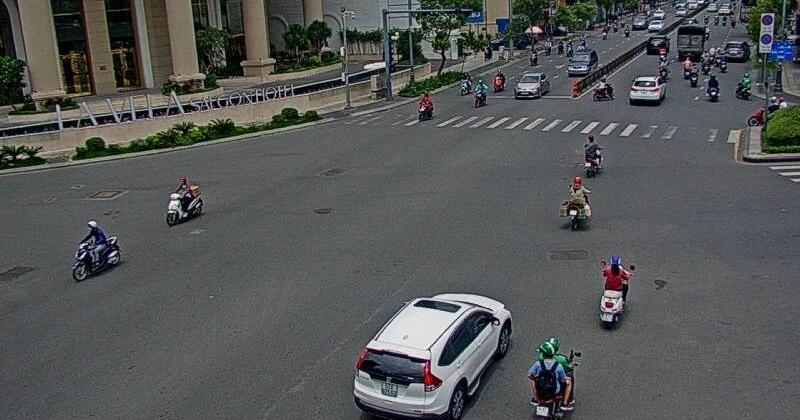xe hoi: (349, 289, 512, 420), (629, 73, 665, 106), (512, 72, 547, 98)
xe may: (529, 335, 579, 420), (69, 218, 119, 284), (597, 251, 633, 327), (165, 180, 204, 225), (561, 174, 592, 230), (581, 134, 605, 179), (416, 90, 434, 123)
